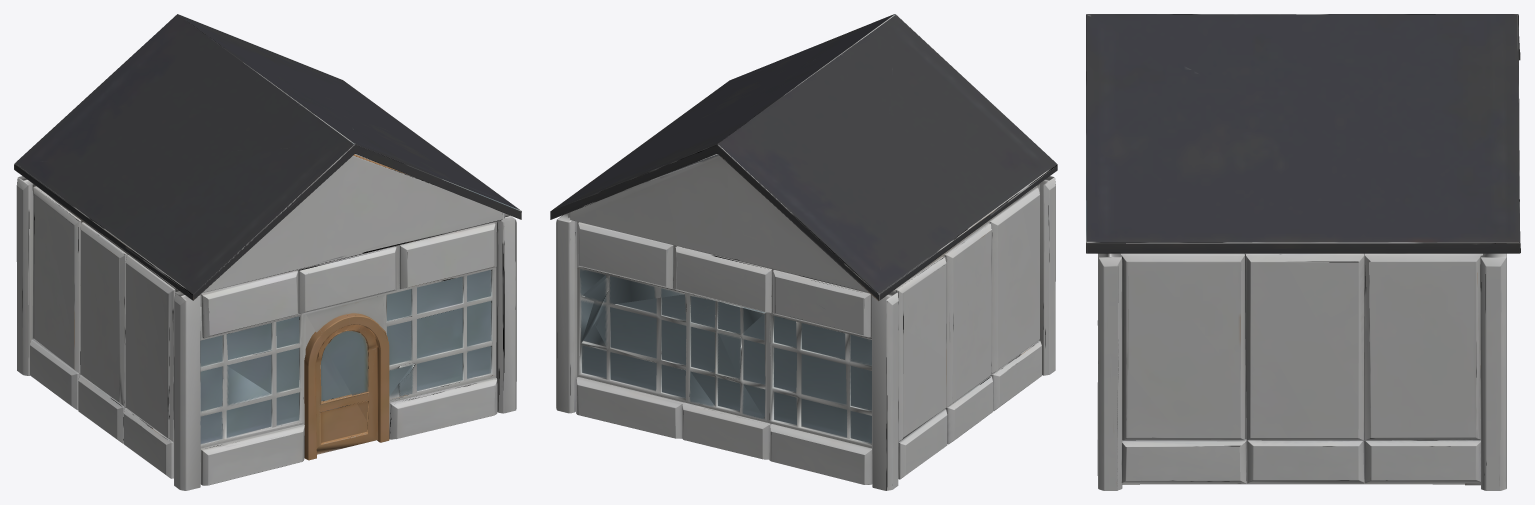
Rendered from 12-restaurant.glb.
The picture shows the model from 3 angles, left to right: view 1: azimuth 30°, elevation 25°; view 2: azimuth 150°, elevation 25°; view 3: azimuth 270°, elevation 25°; orthographic projection. The views are drawn at different scales.
Parts seen in each view (by area): view 1: geometry_0; view 2: geometry_0; view 3: geometry_0.
Part boxes in pixels (left/top/right/bottom): geometry_0: left=14, top=14, right=521, bottom=490; geometry_0: left=550, top=14, right=1057, bottom=490; geometry_0: left=1086, top=14, right=1520, bottom=490.
Bounding box in the file's own units: 0.7847 × 0.6934 × 0.7227.
Materials: 1 (1 with a texture image).
